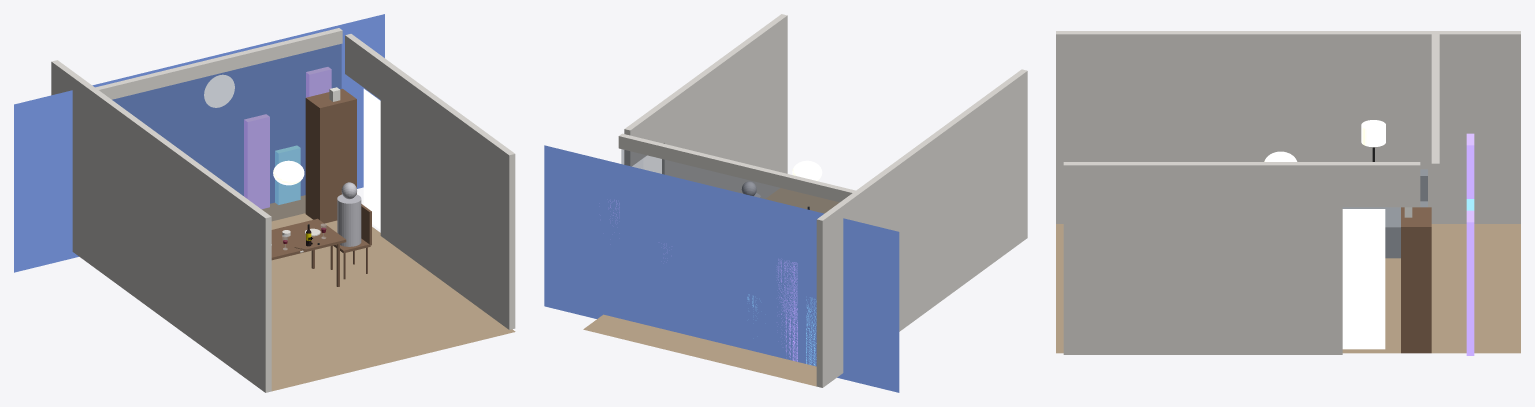
Rendered from v1_tokyo_previz_3djutsu.glb.
The picture shows the model from 3 angles, left to right: view 1: azimuth 30°, elevation 25°; view 2: azimuth 150°, elevation 25°; view 3: azimuth 270°, elevation 25°; orthographic projection. The views are drawn at different scales.
Visible parts, largest first — view 1: Wall_Left, Skyline_Card, Wall_Right, Floor, Window_Glass, Bookshelf, Wall_Window_Frame_Top, Building_3, Doorway_Spill, Table_Top, Wall_Right_Door_Top, Ren_Proxy_Body (+4 smaller); view 2: Skyline_Card, Wall_Left, Wall_Right, Floor, Wall_Window_Frame_Top, Window_Glass, Wall_Right_Door_Top, Building_1, Pendant_Shade; view 3: Wall_Left, Wall_Right, Floor, Doorway_Spill, Bookshelf, Wall_Right_Door_Top, Building_5, Wall_Window_Frame_Top, Sofa, Floor_Lamp_Shade, Building_1.
Part boxes in pixels (x1,y1,x2,y2): Wall_Left: (51,60,271,392); Skyline_Card: (14,14,384,272); Wall_Right: (380,61,515,329); Floor: (262,195,515,391); Window_Glass: (113,44,341,220); Bookshelf: (305,88,356,223); Wall_Window_Frame_Top: (95,28,342,99); Building_3: (244,114,269,208); Doorway_Spill: (363,89,380,229); Table_Top: (271,218,346,260); Wall_Right_Door_Top: (345,34,393,99); Ren_Proxy_Body: (337,194,361,246); Skyline_Card: (544,145,899,392); Wall_Left: (816,69,1027,387); Wall_Right: (662,14,787,198); Floor: (583,188,839,386); Wall_Window_Frame_Top: (618,133,857,202); Window_Glass: (621,149,838,213); Wall_Right_Door_Top: (624,99,671,166); Building_1: (777,259,797,361); Pendant_Shade: (792,160,822,180); Wall_Left: (1056,31,1520,223); Wall_Right: (1063,162,1342,354); Floor: (1056,224,1520,353); Doorway_Spill: (1342,209,1385,349); Bookshelf: (1401,207,1431,353); Wall_Right_Door_Top: (1327,162,1420,207); Building_5: (1466,210,1474,355); Wall_Window_Frame_Top: (1431,34,1439,177); Sofa: (1342,201,1427,258); Floor_Lamp_Shade: (1361,120,1385,147); Building_1: (1466,133,1474,198).
Size of what is drawn, in the model's own units: 6 by 2.8 by 6.
